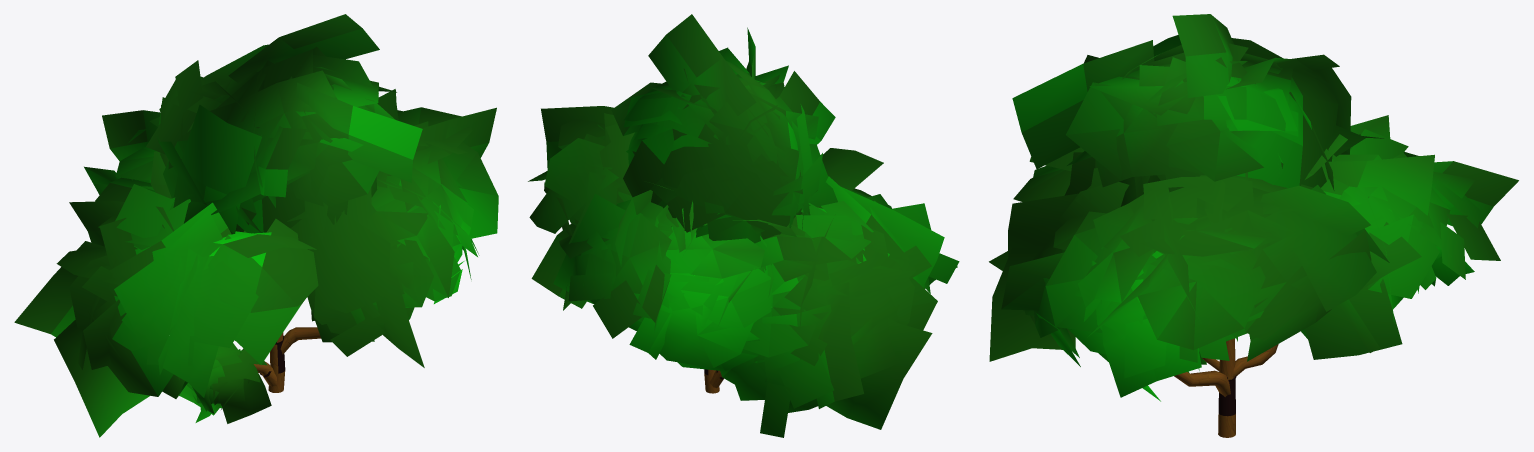
File: obj_harvests_trees_leafy02_p07.fbx
3 renders of one model, left to right at view 1: azimuth 30°, elevation 25°; view 2: azimuth 150°, elevation 25°; view 3: azimuth 270°, elevation 25°, orthographic. The views are drawn at different scales.
Visible parts, largest first — view 1: chunk07; view 2: chunk07; view 3: chunk07.
Part boxes in pixels (bbox=[...]): chunk07: bbox=[14, 14, 498, 437]; chunk07: bbox=[528, 14, 959, 437]; chunk07: bbox=[989, 14, 1518, 437].
Bounding box in the file's own units: 72.38 × 60.97 × 65.74.
